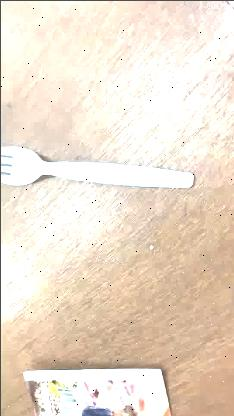Others: (0, 147, 192, 189)
